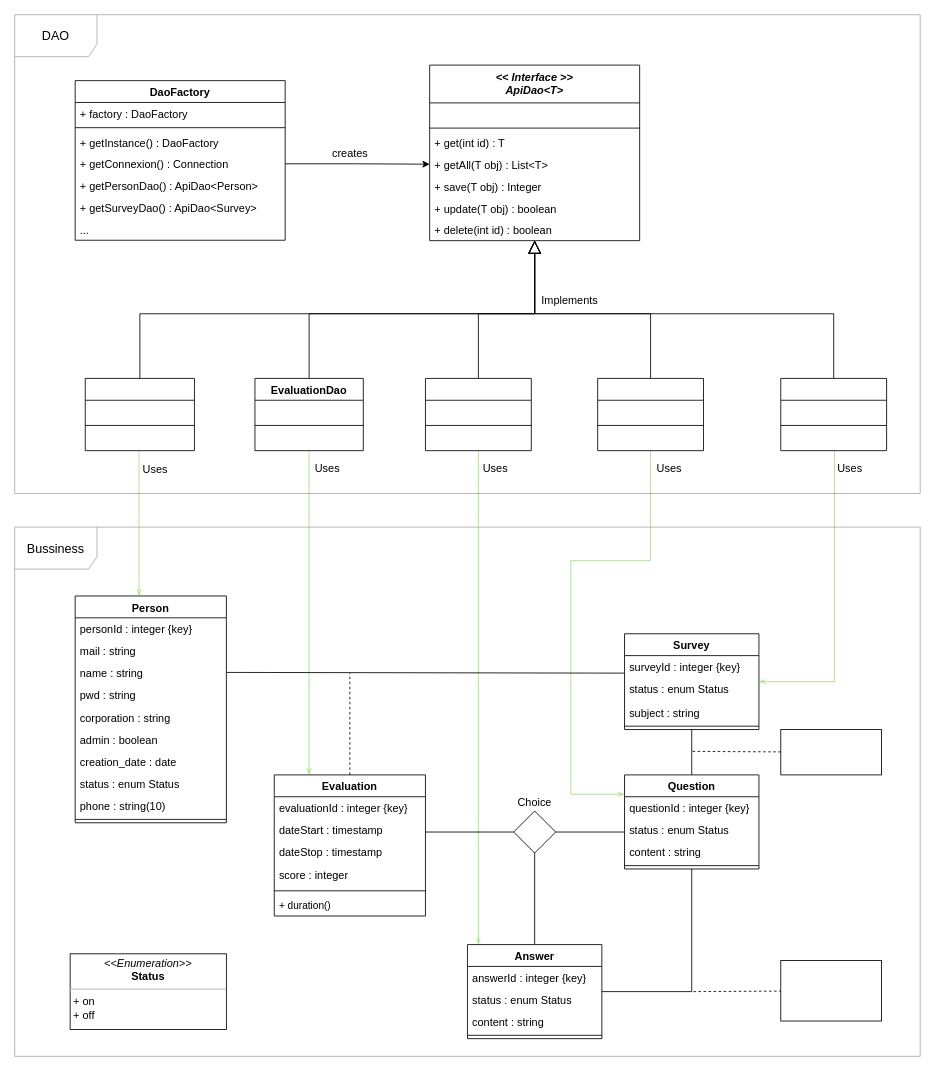
Some shapes in this 935 by 1071 pixel diagram are drawn without their labels. Here are the shapes that lost their labels. From the top down, the centre of each, then its label:
(x=139, y=414): PersonDao
(x=478, y=414): AnswerDao
(x=650, y=414): QuestionDao
(x=833, y=414): SurveyDao
(x=831, y=752): Order_question rank : integer
(x=831, y=990): Order_answer rank : integer correct : boolean
